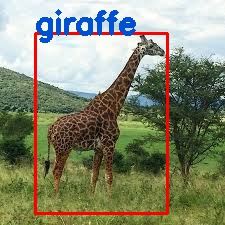giraffe: (34, 33, 167, 213)
